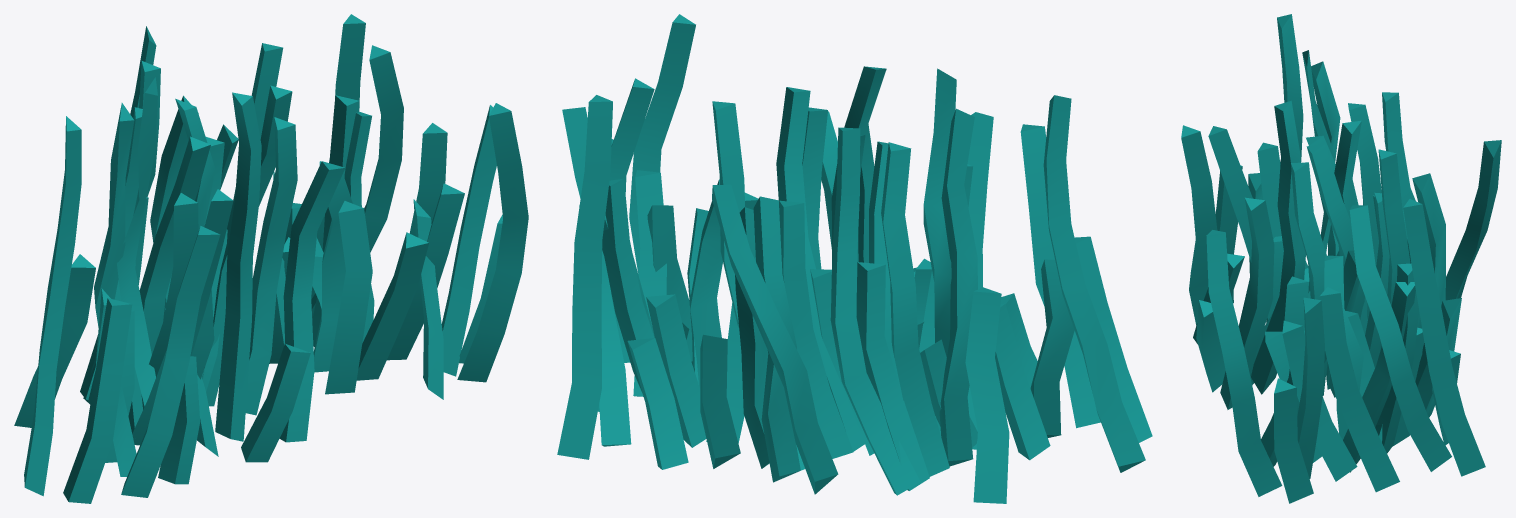
File: coral_anemone_B_medium.fbx
3 views of the same model, side by side, from view 1: azimuth 30°, elevation 25°; view 2: azimuth 150°, elevation 25°; view 3: azimuth 270°, elevation 25° (orthographic). The views are drawn at different scales.
Visible parts, largest first — view 1: coral_anemone_B_medium; view 2: coral_anemone_B_medium; view 3: coral_anemone_B_medium.
Boxes of the visible parts, box(x1,y1,x2,y2) form: coral_anemone_B_medium: box(14, 14, 528, 503); coral_anemone_B_medium: box(557, 14, 1152, 503); coral_anemone_B_medium: box(1181, 14, 1501, 503).
Bounding box in the file's own units: 128 × 87.48 × 78.28.
